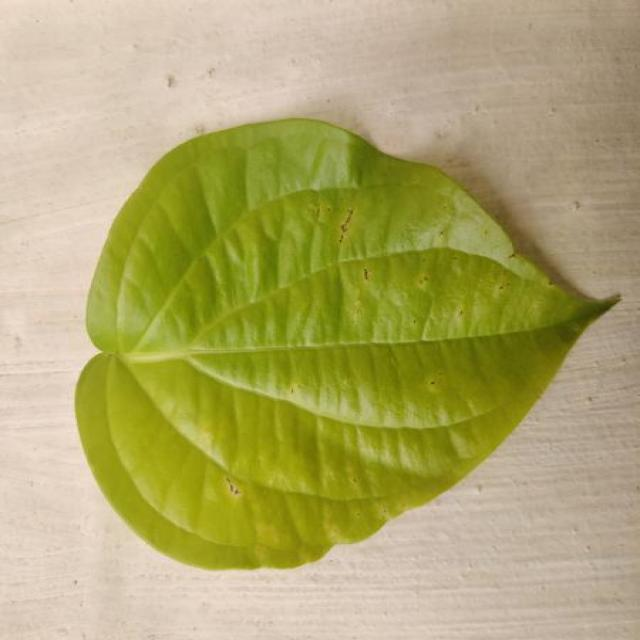betel: (77, 119, 617, 569)
